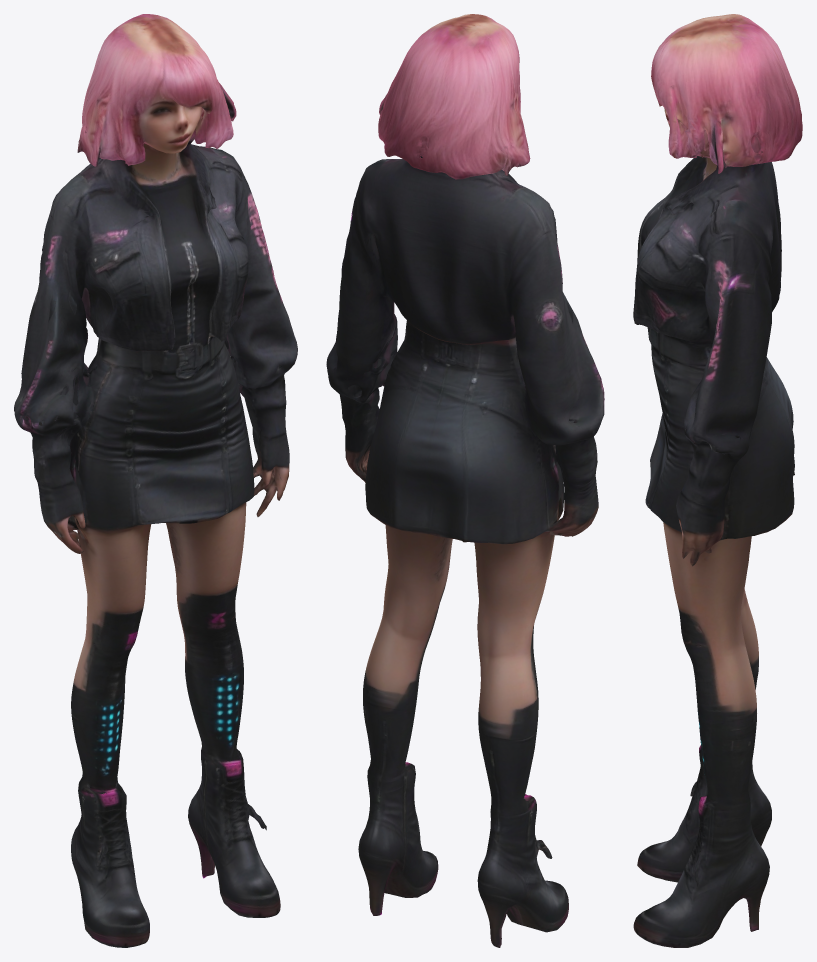
File: avatar4.glb
3 renders of one model, left to right at view 1: azimuth 30°, elevation 25°; view 2: azimuth 150°, elevation 25°; view 3: azimuth 270°, elevation 25°, orthographic. The views are drawn at different scales.
Parts seen in each view (by area): view 1: Object_4; view 2: Object_4; view 3: Object_4.
Part boxes in pixels (x1=…): Object_4: x1=14, y1=14, x2=297, y2=947; Object_4: x1=326, y1=14, x2=604, y2=947; Object_4: x1=633, y1=14, x2=802, y2=947.
Bounding box in the file's own units: 0.6391 × 2 × 0.3485.
Materials: 1 (1 with a texture image).
